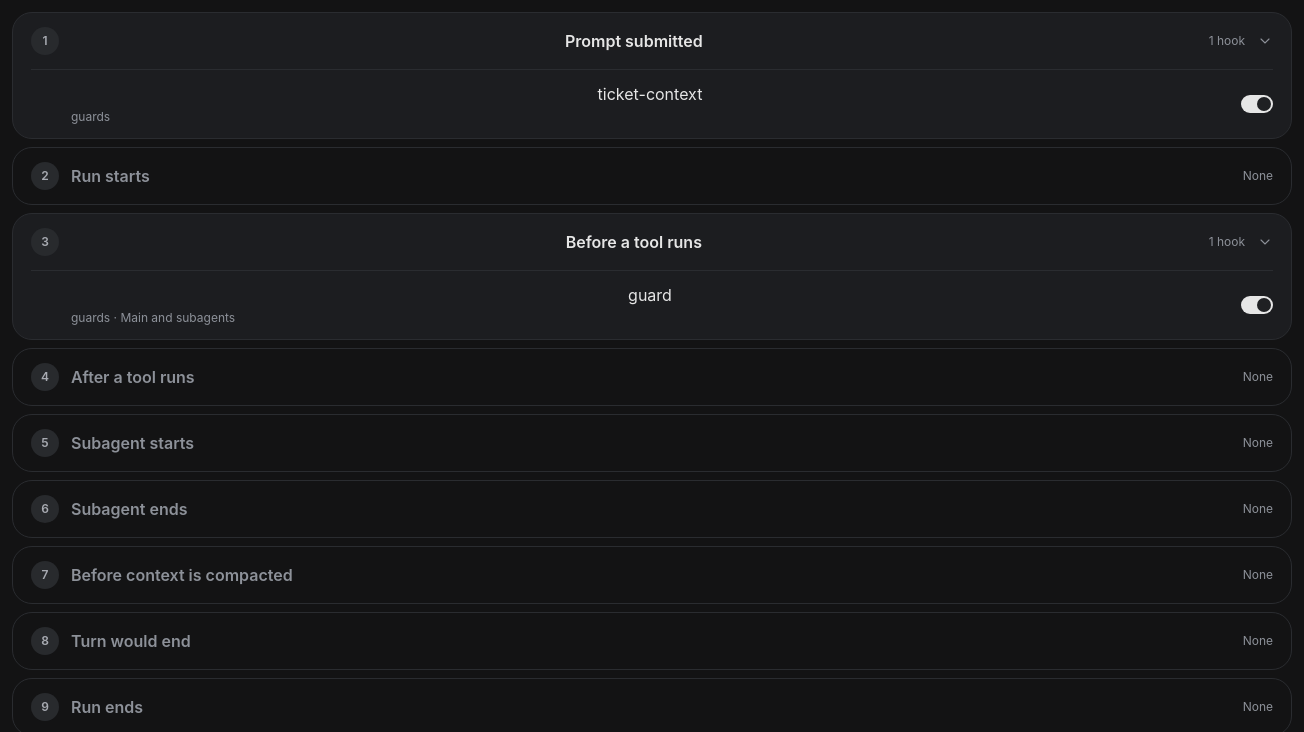
it: Hooks by event › collapses an event with hooks; an empty event has nothing to collapse
Click the button "3 Before a tool runs 1 hook". click: (652, 242)
box: [13, 214, 1291, 270]
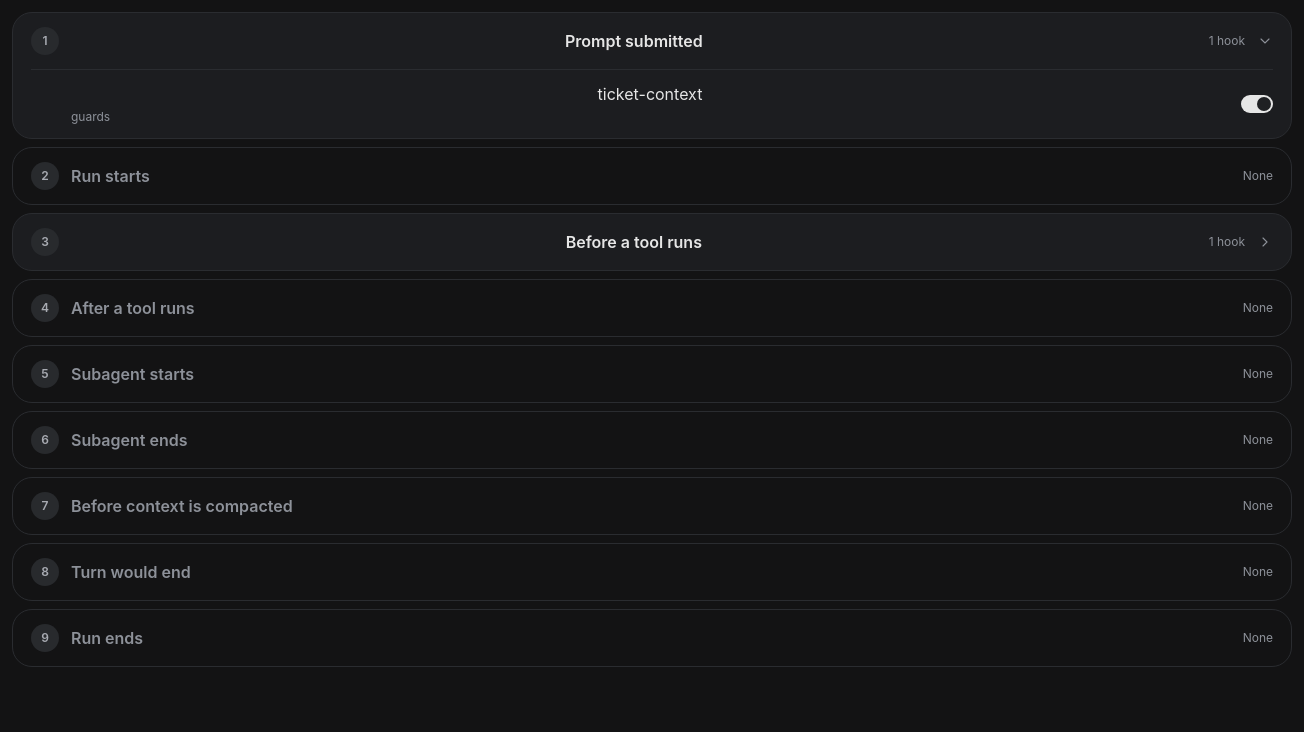
Check: the switch named "ticket-context enabled" is shown, box [1241, 95, 1273, 113]
Check: the button "3 Before a tool runs 1 hook" is collapsed
Click the button "3 Before a tool runs 1 hook". click: (652, 242)
box: [13, 214, 1291, 270]
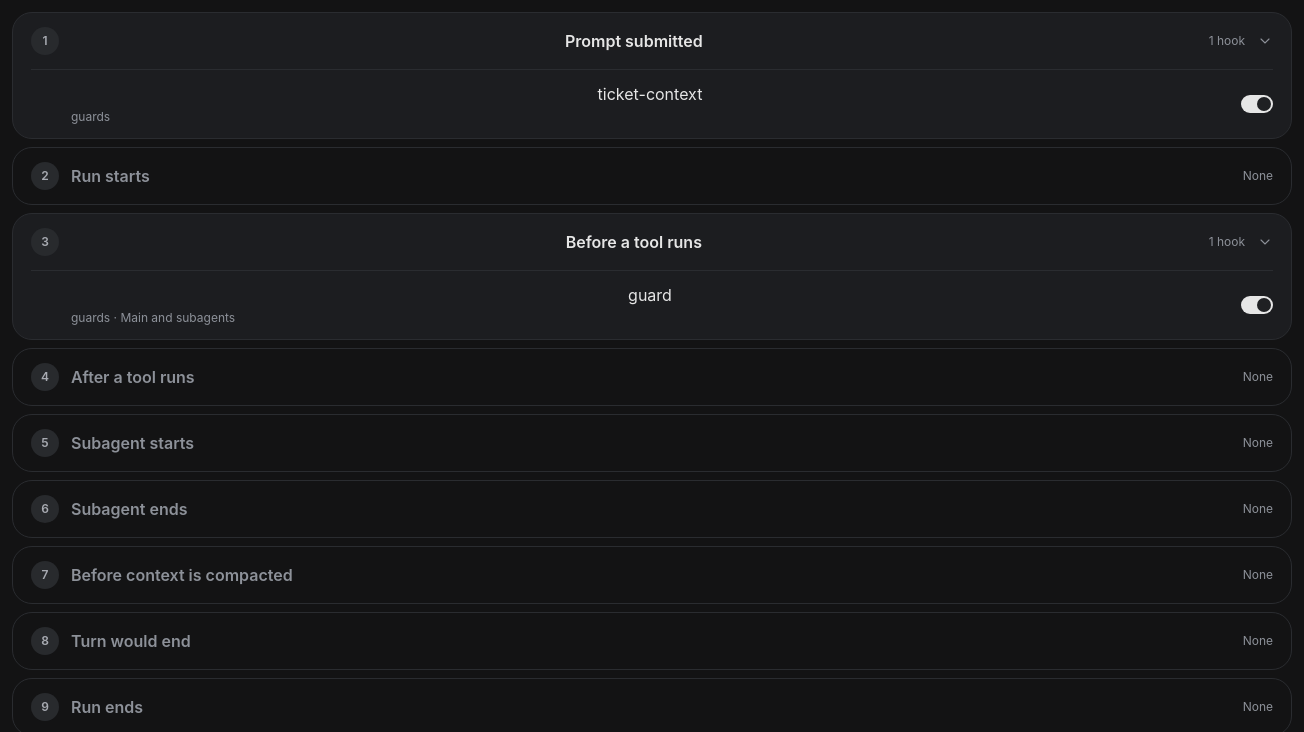
Check: the switch named "guard enabled" is shown, box [1241, 296, 1273, 314]
